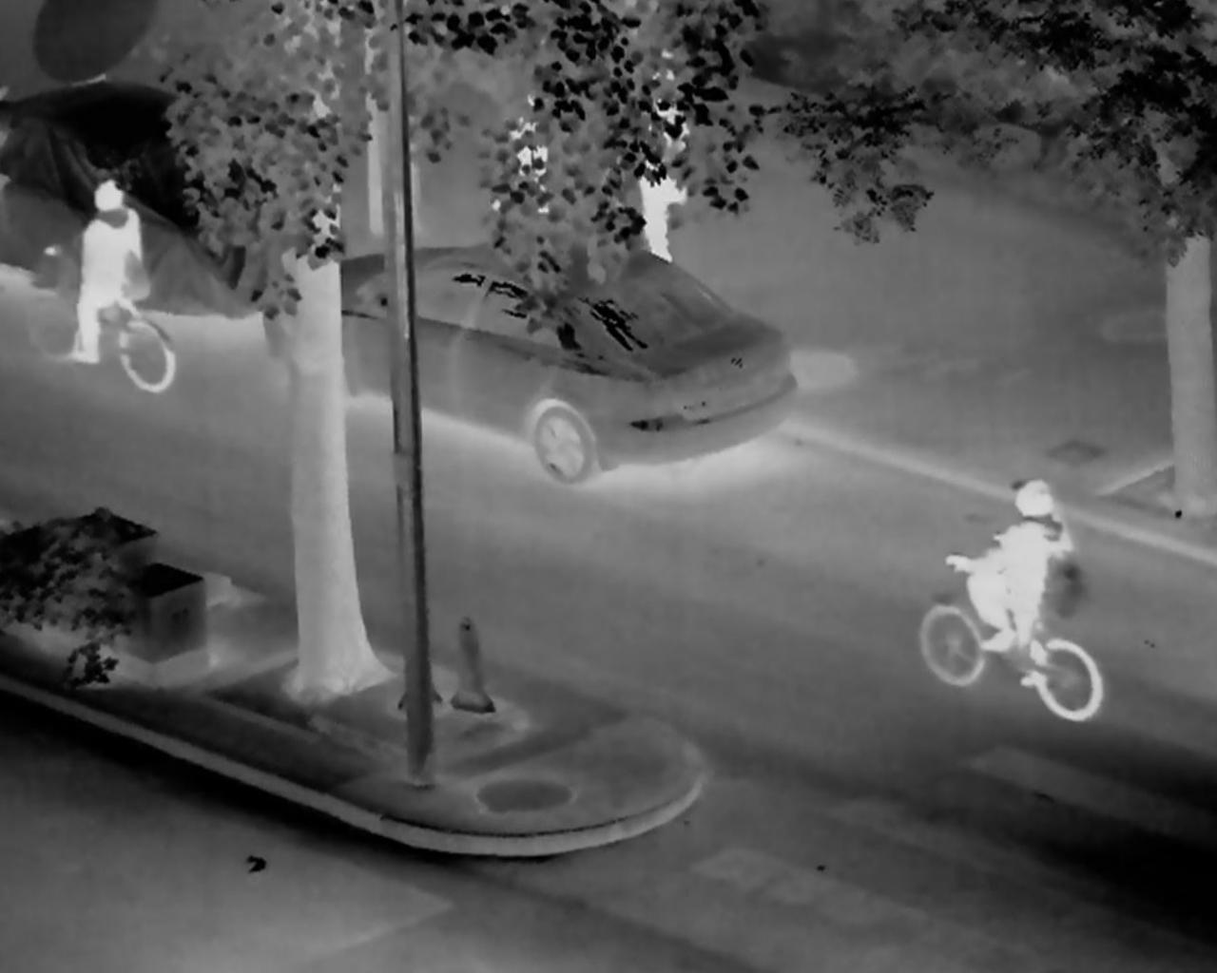person: (963, 480, 1075, 680), (621, 37, 690, 261), (65, 183, 146, 364)
